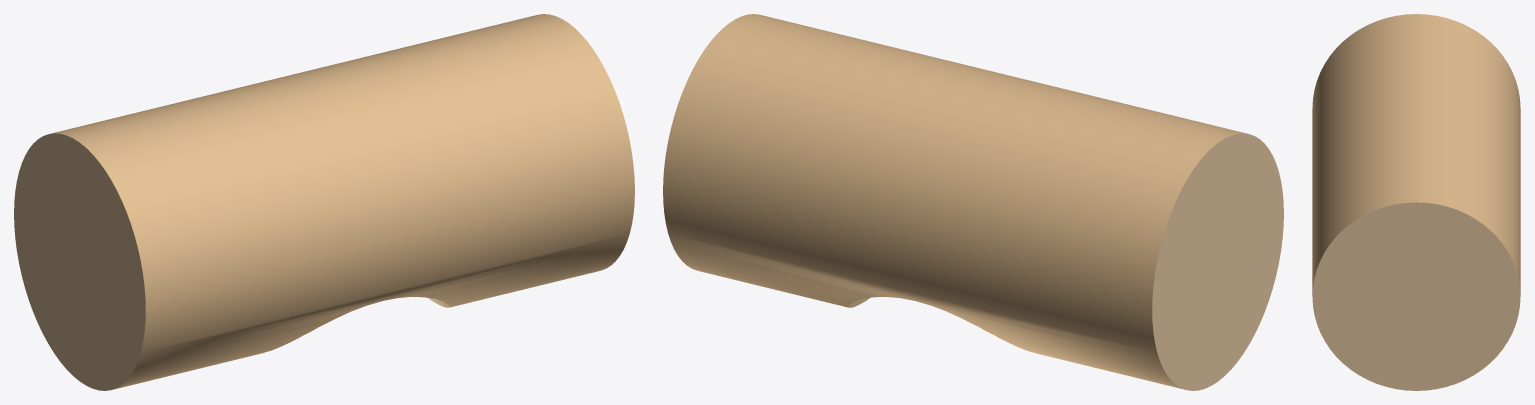
The model's file is SM_RawLog_75_SaddleB_Upper.fbx.
3 views of the same model, side by side, from view 1: azimuth 30°, elevation 25°; view 2: azimuth 150°, elevation 25°; view 3: azimuth 270°, elevation 25° (orthographic). The views are drawn at different scales.
Visible parts, largest first — view 1: RawLog_75_SaddleB_Upper; view 2: RawLog_75_SaddleB_Upper; view 3: RawLog_75_SaddleB_Upper.
Part boxes in pixels (box(x1,y1,x2,y2)): RawLog_75_SaddleB_Upper: box(14, 14, 634, 390); RawLog_75_SaddleB_Upper: box(663, 14, 1283, 390); RawLog_75_SaddleB_Upper: box(1312, 14, 1520, 390).
Size of what is drawn, in the model's own units: 0.75 by 0.35 by 0.35.
